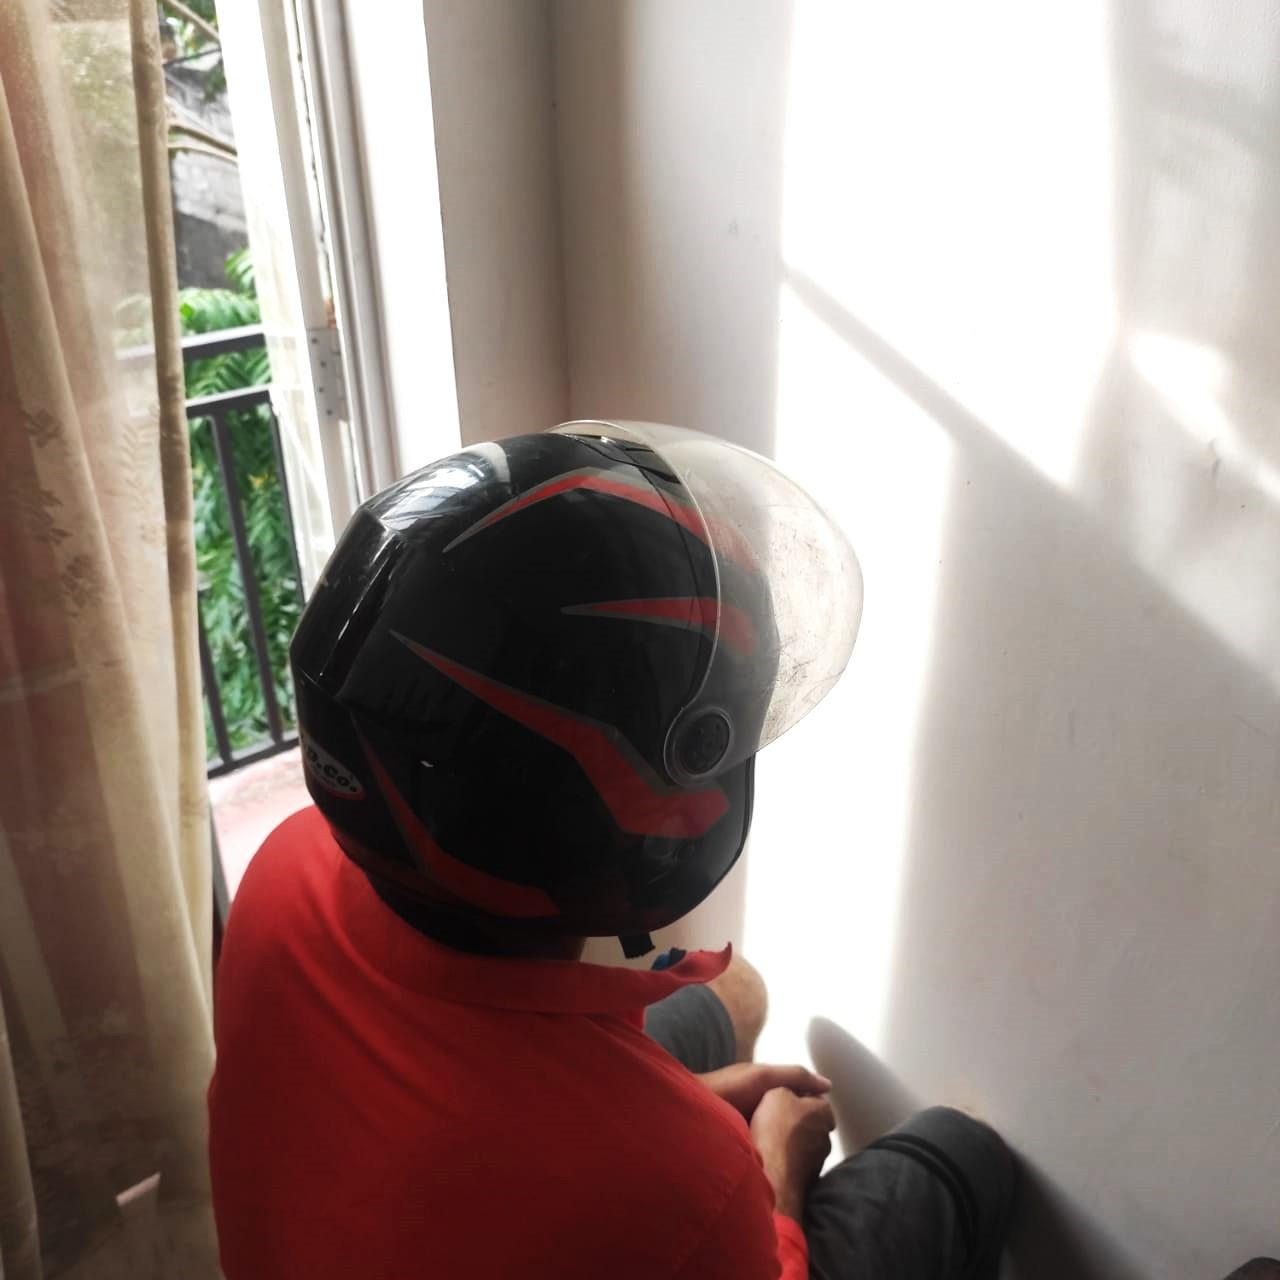helmet: (285, 408, 872, 948)
